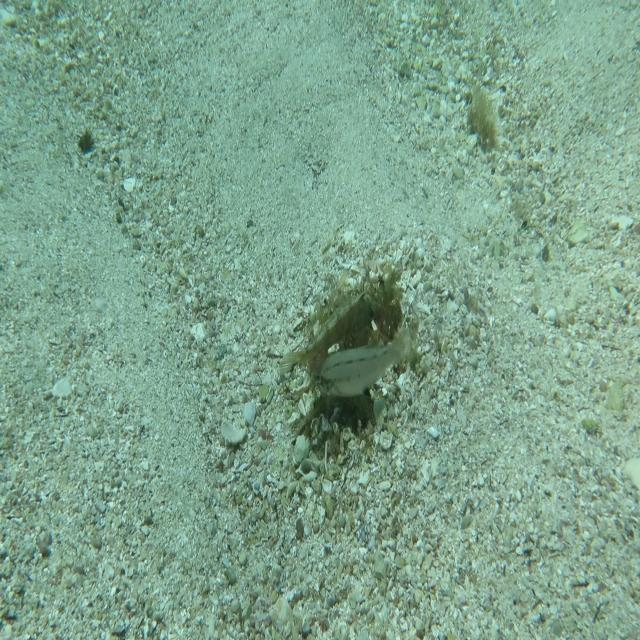ROLL: (276, 283, 383, 377)
female: (312, 315, 410, 404)
nest: (288, 251, 424, 471)
